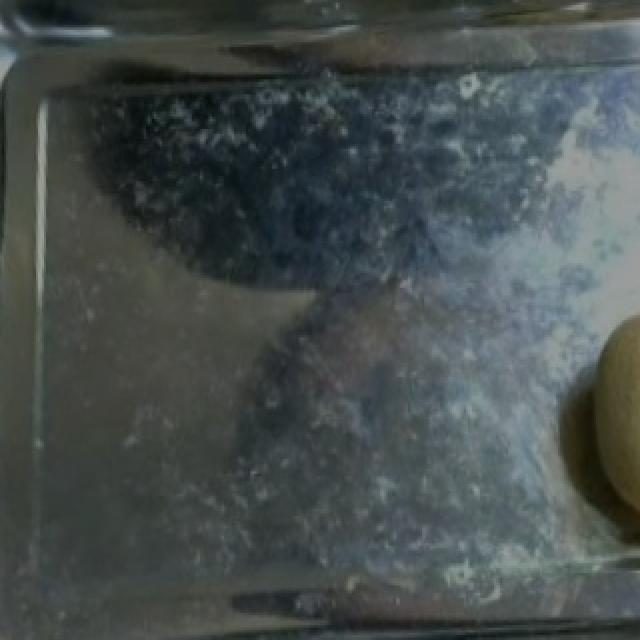Fruit: (574, 292, 640, 546)
